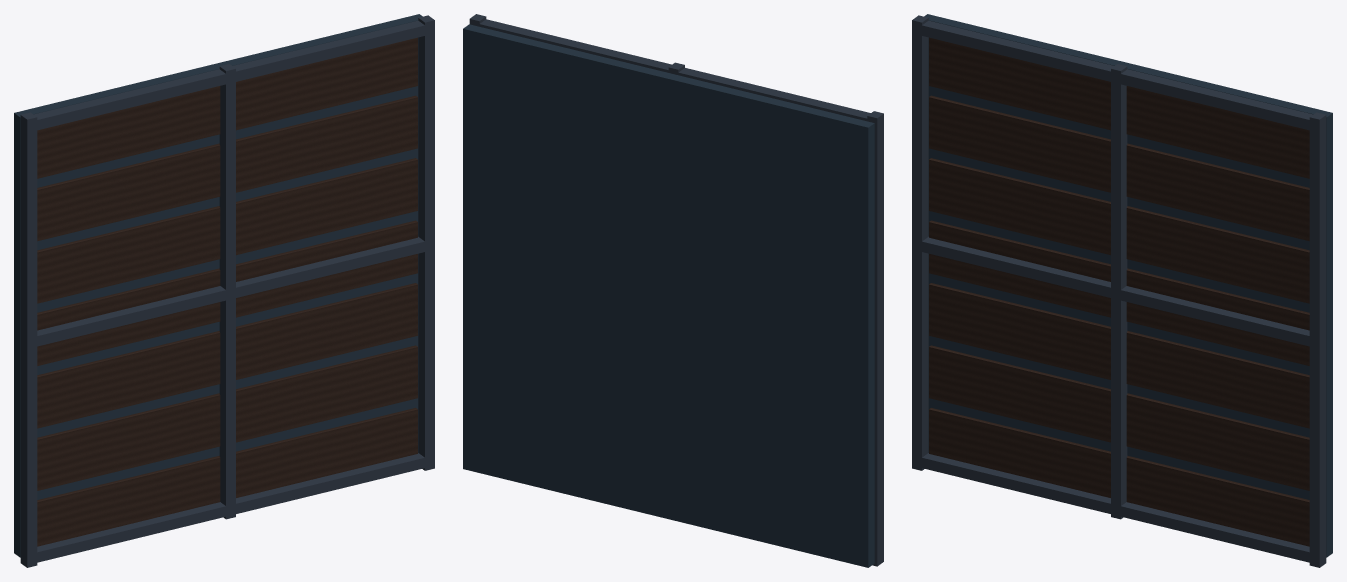
The model's file is upper_window.glb.
The picture shows the model from 3 angles, left to right: view 1: azimuth 30°, elevation 25°; view 2: azimuth 150°, elevation 25°; view 3: azimuth 330°, elevation 25°; orthographic projection.
Visible parts, largest first — view 1: upper_window_Wood, upper_window_Steel, upper_window_Glass; view 2: upper_window_Glass, upper_window_Steel; view 3: upper_window_Wood, upper_window_Steel, upper_window_Glass.
Part boxes in pixels (x1=…): upper_window_Wood: x1=37, y1=37, x2=417, y2=546; upper_window_Steel: x1=20, y1=15, x2=434, y2=567; upper_window_Glass: x1=14, y1=14, x2=422, y2=557; upper_window_Glass: x1=463, y1=24, x2=874, y2=567; upper_window_Steel: x1=469, y1=14, x2=883, y2=566; upper_window_Wood: x1=929, y1=37, x2=1309, y2=546; upper_window_Steel: x1=912, y1=15, x2=1326, y2=567; upper_window_Glass: x1=924, y1=14, x2=1332, y2=557.
Bounding box in the file's own units: 2.66 × 2.8 × 0.1625.
Materials: 3 (1 with a texture image).
